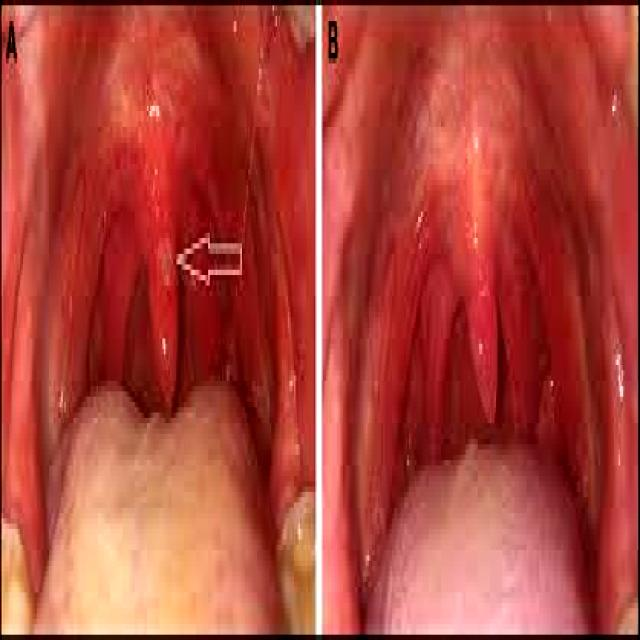ulcer: (152, 233, 178, 328)
